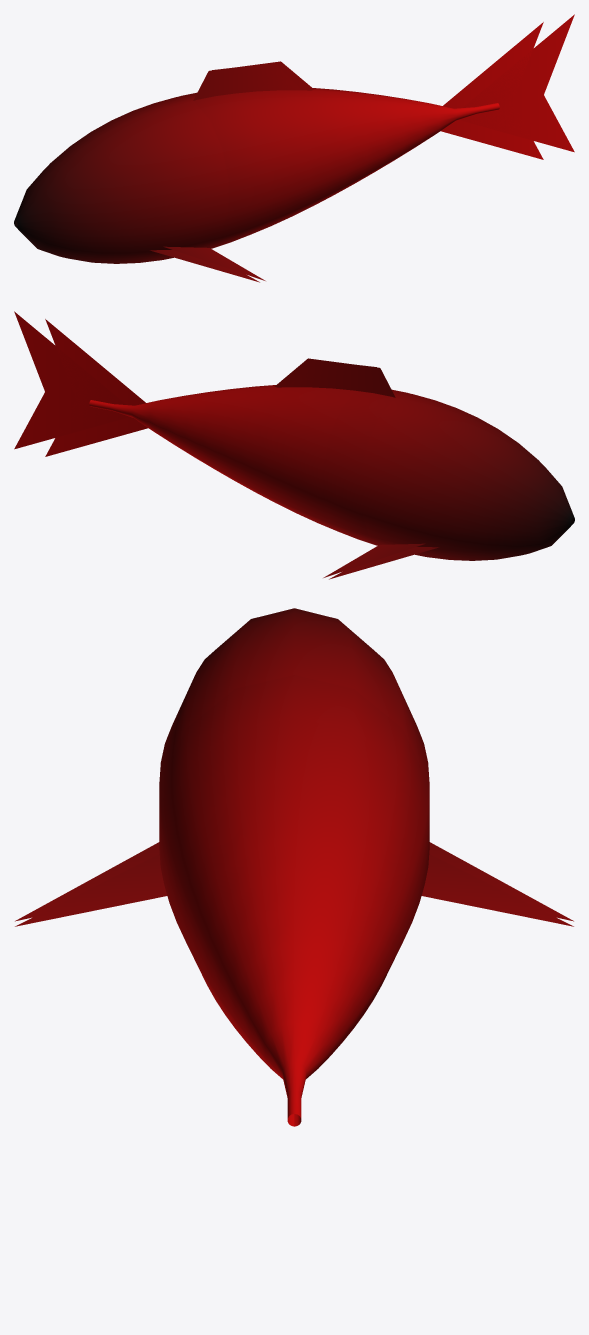
File: koi.glb
3 renders of one model, top to bottom at view 1: azimuth 30°, elevation 25°; view 2: azimuth 150°, elevation 25°; view 3: azimuth 270°, elevation 25°, orthographic. The views are drawn at different scales.
Visible parts, largest first — view 1: koi_a_LOD0, koi_b_LOD0; view 2: koi_a_LOD0, koi_b_LOD0; view 3: koi_a_LOD0, koi_b_LOD0.
Boxes of the visible parts, bbox=[...] form: koi_a_LOD0: bbox=[14, 14, 574, 282]; koi_b_LOD0: bbox=[163, 22, 543, 280]; koi_a_LOD0: bbox=[14, 311, 574, 579]; koi_b_LOD0: bbox=[45, 319, 425, 577]; koi_a_LOD0: bbox=[15, 608, 573, 1126]; koi_b_LOD0: bbox=[15, 675, 573, 926].
Size of what is drawn, in the model's own units: 0.719 by 0.2104 by 0.32.
